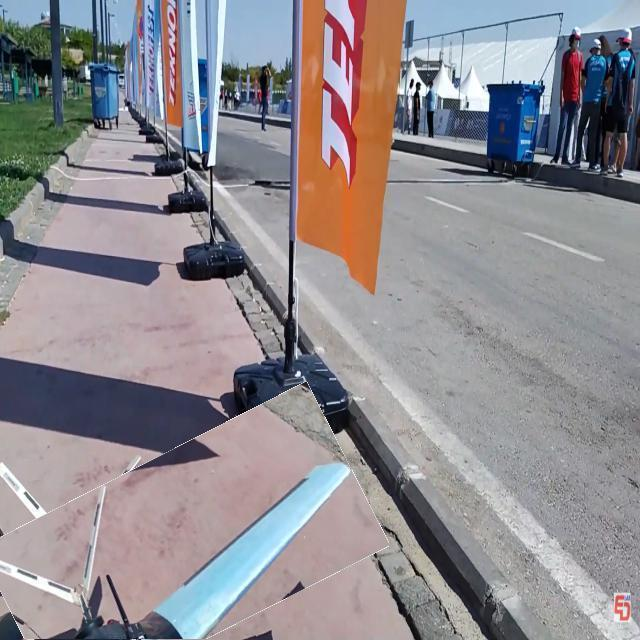iha: (8, 392, 303, 632)
